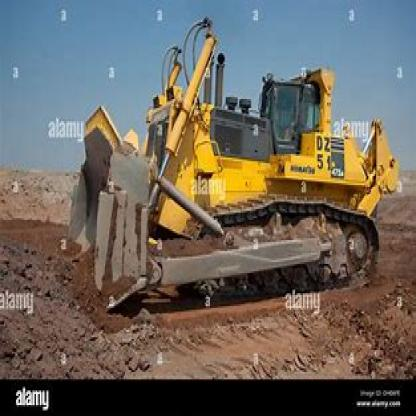bull_dozer/loader/grader: (42, 17, 414, 315)
